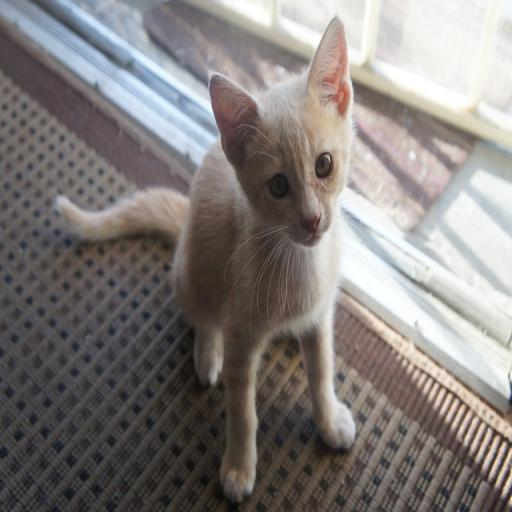cat: (56, 15, 356, 502)
